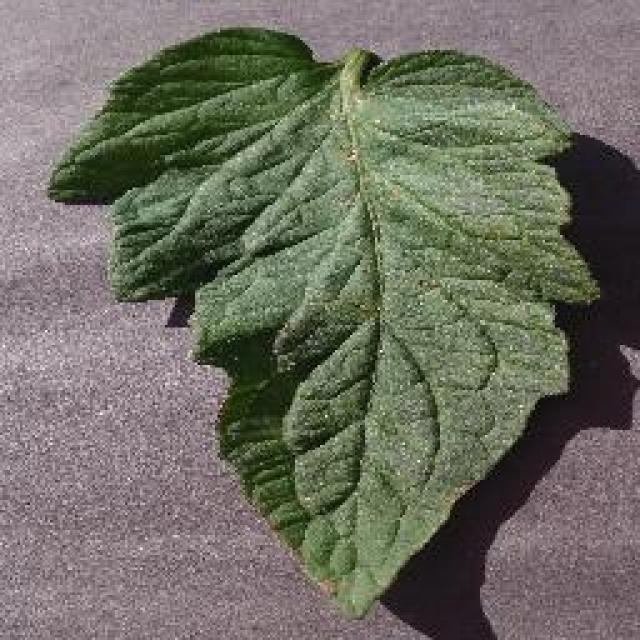Tomato___Target_Spot: (48, 28, 598, 615)
